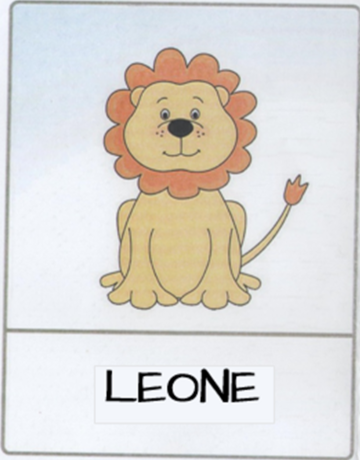leone: (28, 13, 340, 440)
